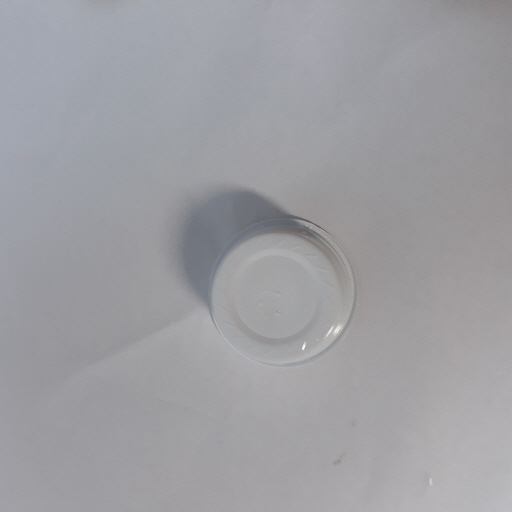Plastic_5: (207, 214, 357, 368)
